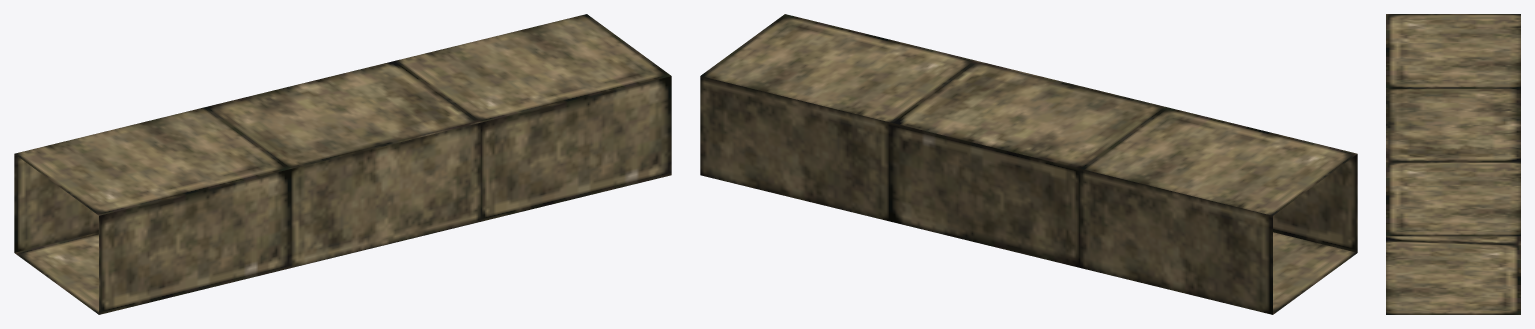
Rendered from OVERHILL_A_01_OBJECT310.fbx.
3 views of the same model, side by side, from view 1: azimuth 30°, elevation 25°; view 2: azimuth 150°, elevation 25°; view 3: azimuth 270°, elevation 25° (orthographic). The views are drawn at different scales.
Parts seen in each view (by area): view 1: OVERHILL_A_01_OBJECT310; view 2: OVERHILL_A_01_OBJECT310; view 3: OVERHILL_A_01_OBJECT310.
Boxes of the visible parts, x1,y1,x2,y2 form: OVERHILL_A_01_OBJECT310: (14, 14, 671, 314); OVERHILL_A_01_OBJECT310: (700, 14, 1357, 314); OVERHILL_A_01_OBJECT310: (1386, 14, 1520, 314).
Bounding box in the file's own units: 32635 × 5399 × 8373.
Materials: 1 (1 with a texture image).
